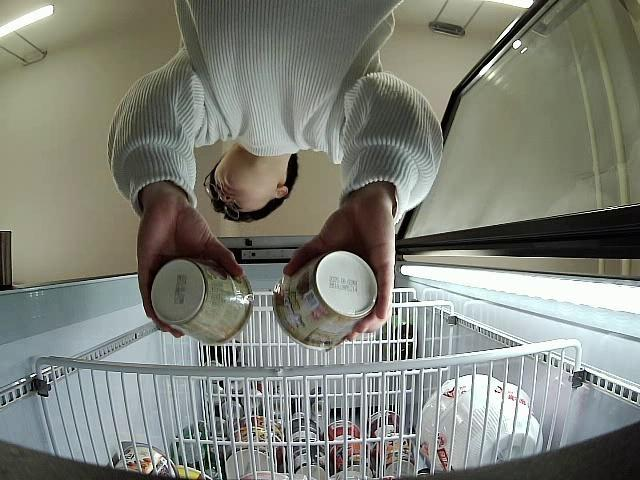04_chapagetti_S: (271, 250, 378, 352), (150, 256, 255, 344)
